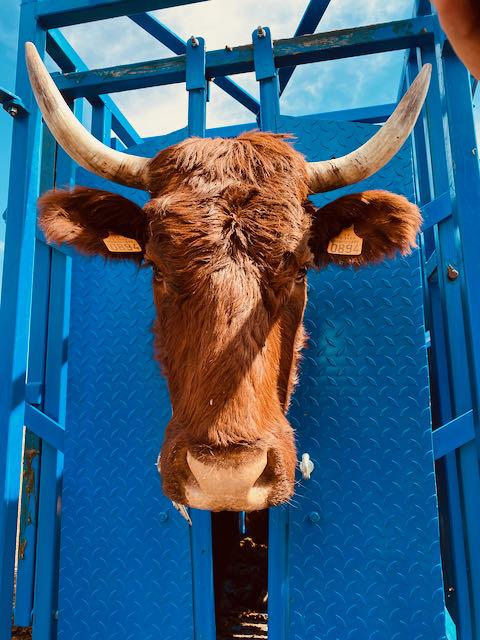muzzles: (148, 434, 306, 520)
